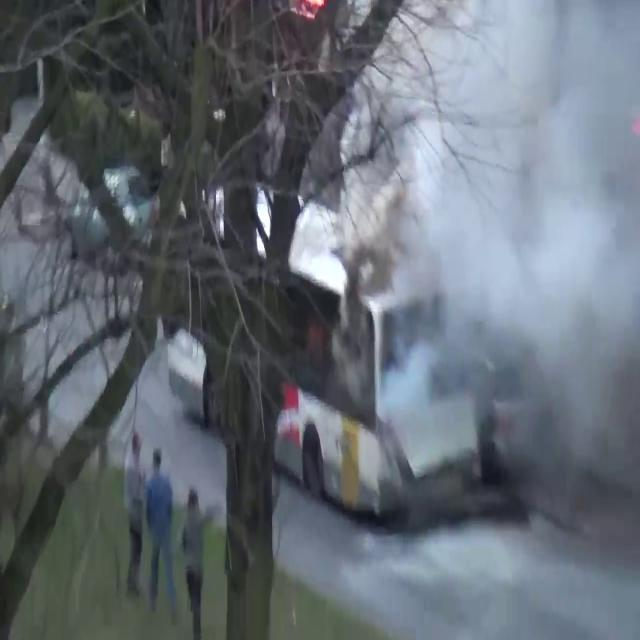Smoke: (346, 0, 640, 596)
